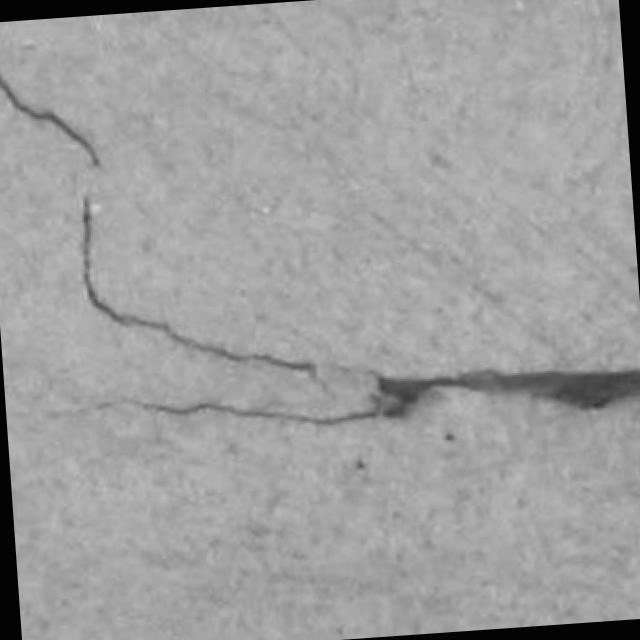crack: (81, 197, 315, 376), (137, 369, 639, 424), (379, 369, 639, 414), (0, 74, 98, 166), (132, 396, 401, 426)
